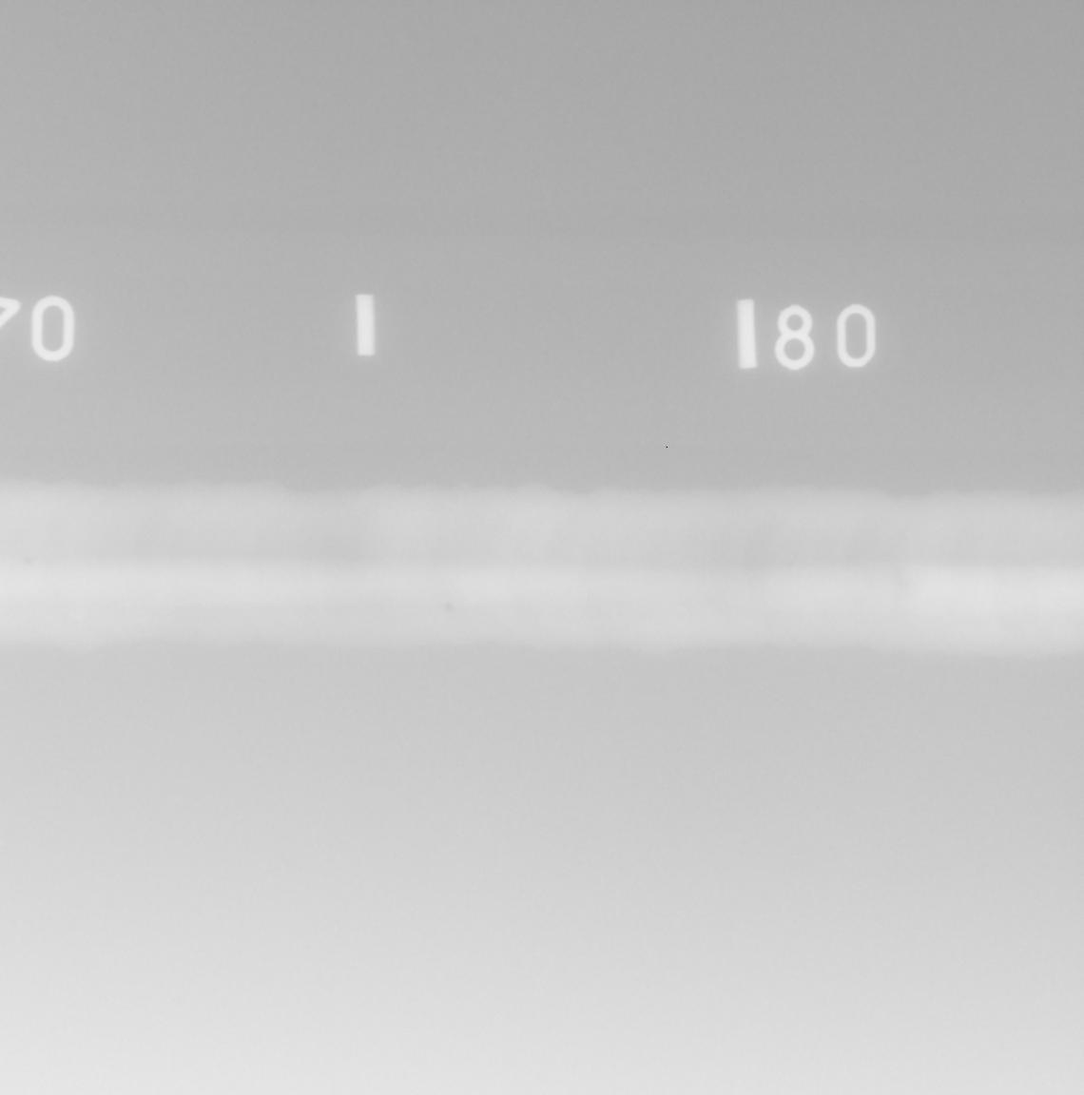Pore/Porosity: (25, 557, 32, 564), (446, 603, 452, 611), (785, 562, 793, 566)
